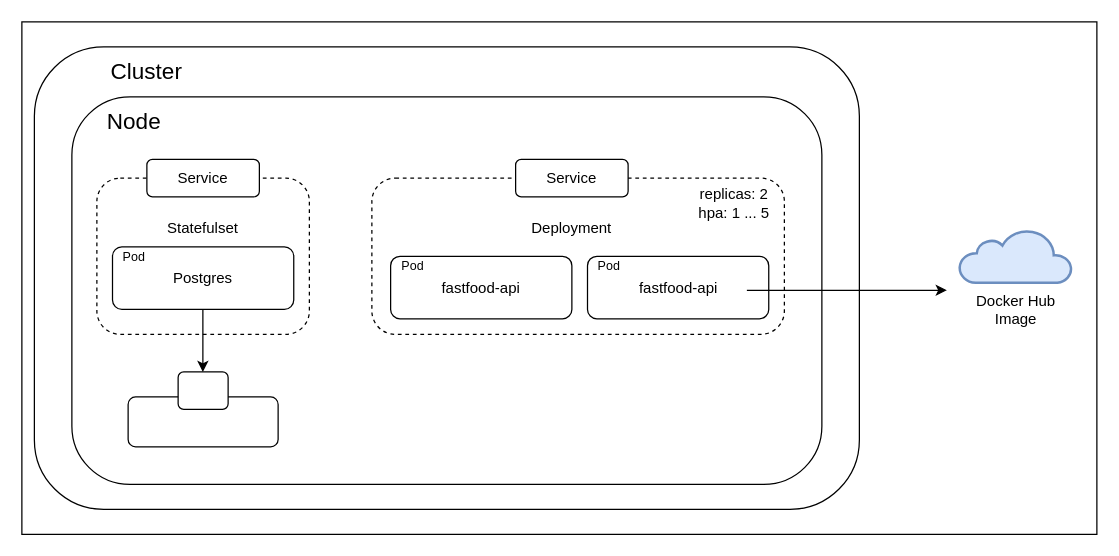
Image size: 1119x556. Some labels were removed from this diagram. The shapes that lost their labels are listed below. From the top down, each one's centre as x and y in pixels, then its label:
At pixel 202 390: "pvc".
At pixel 202 421: "Volume".
